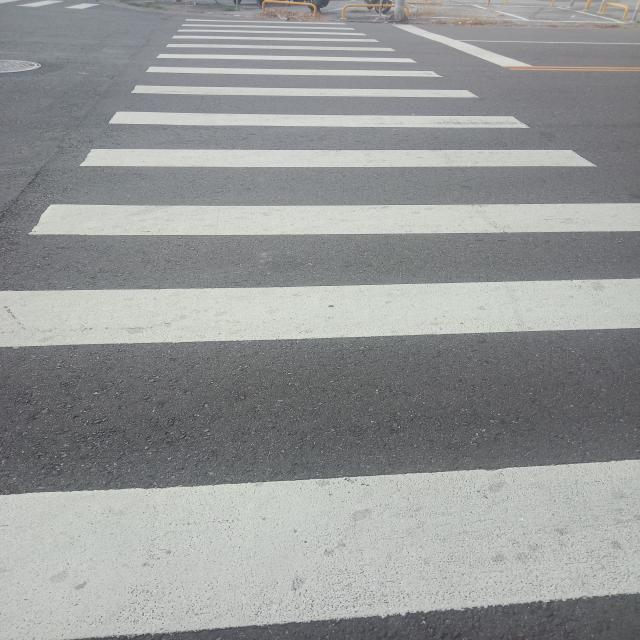zebra crossing: (3, 12, 639, 640)
